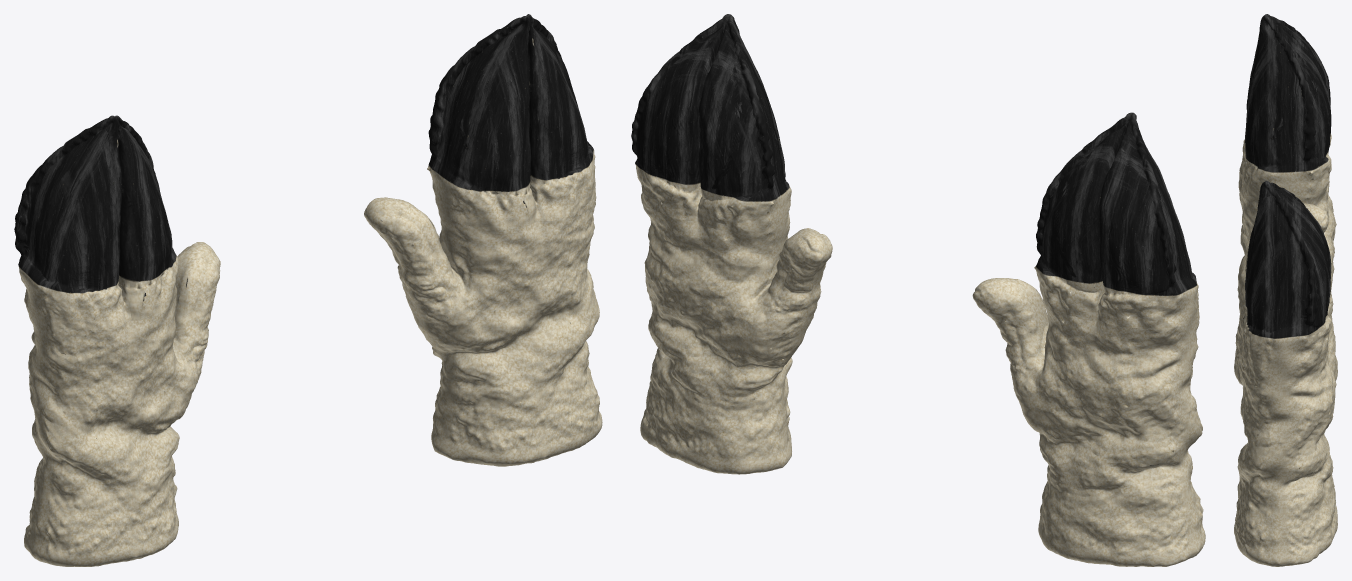
Rendered from Glove_pair.glb.
The picture shows the model from 3 angles, left to right: view 1: azimuth 30°, elevation 25°; view 2: azimuth 150°, elevation 25°; view 3: azimuth 270°, elevation 25°; orthographic projection. The views are drawn at different scales.
Parts seen in each view (by area): view 1: Glove_R_Palm, Glove_L_Palm, Glove_R_Toe_IndexMiddle, Glove_L_Toe_RingLittle, Glove_L_Toe_IndexMiddle, Glove_R_Toe_RingLittle; view 2: Glove_L_Palm, Glove_R_Palm, Glove_L_Toe_RingLittle, Glove_R_Toe_IndexMiddle, Glove_L_Toe_IndexMiddle, Glove_R_Toe_RingLittle; view 3: Glove_R_Palm, Glove_L_Toe_IndexMiddle, Glove_R_Toe_RingLittle, Glove_L_Palm, Glove_R_Toe_IndexMiddle, Glove_L_Toe_RingLittle.
Boxes of the visible parts, box(x1,y1,x2,y2) form: Glove_R_Palm: box(364, 196, 602, 466); Glove_L_Palm: box(24, 242, 220, 566); Glove_R_Toe_IndexMiddle: box(427, 14, 538, 230); Glove_L_Toe_RingLittle: box(14, 120, 131, 330); Glove_L_Toe_IndexMiddle: box(104, 115, 178, 320); Glove_R_Toe_RingLittle: box(530, 17, 595, 221); Glove_L_Palm: box(972, 278, 1205, 566); Glove_R_Palm: box(640, 200, 832, 474); Glove_L_Toe_RingLittle: box(1090, 122, 1199, 329); Glove_R_Toe_IndexMiddle: box(696, 14, 791, 234); Glove_L_Toe_IndexMiddle: box(1034, 112, 1139, 318); Glove_R_Toe_RingLittle: box(631, 21, 718, 223); Glove_R_Palm: box(1234, 332, 1337, 566); Glove_L_Toe_IndexMiddle: box(1242, 14, 1331, 200); Glove_R_Toe_RingLittle: box(1239, 188, 1331, 367); Glove_L_Palm: box(1234, 172, 1337, 385); Glove_R_Toe_IndexMiddle: box(1242, 181, 1331, 338); Glove_L_Toe_RingLittle: box(1239, 17, 1331, 175).
Bounding box in the file's own units: 0.3325 × 0.247 × 0.0641.
Materials: 1 (1 with a texture image).
